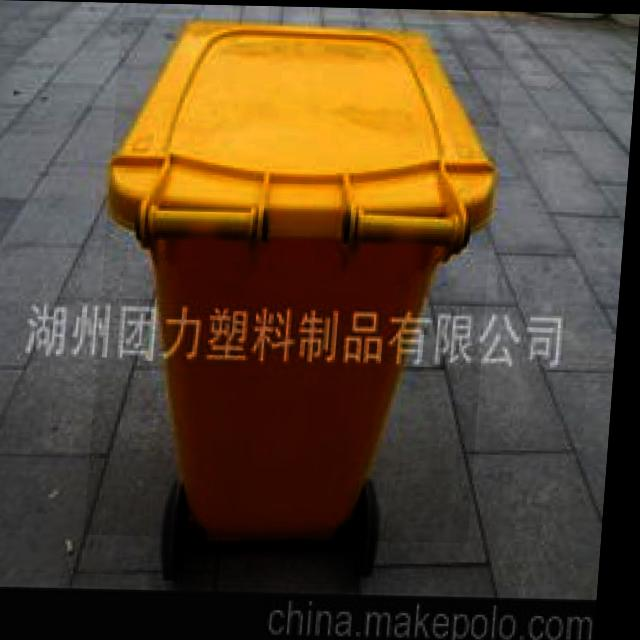garbage_bin: (92, 16, 506, 541)
